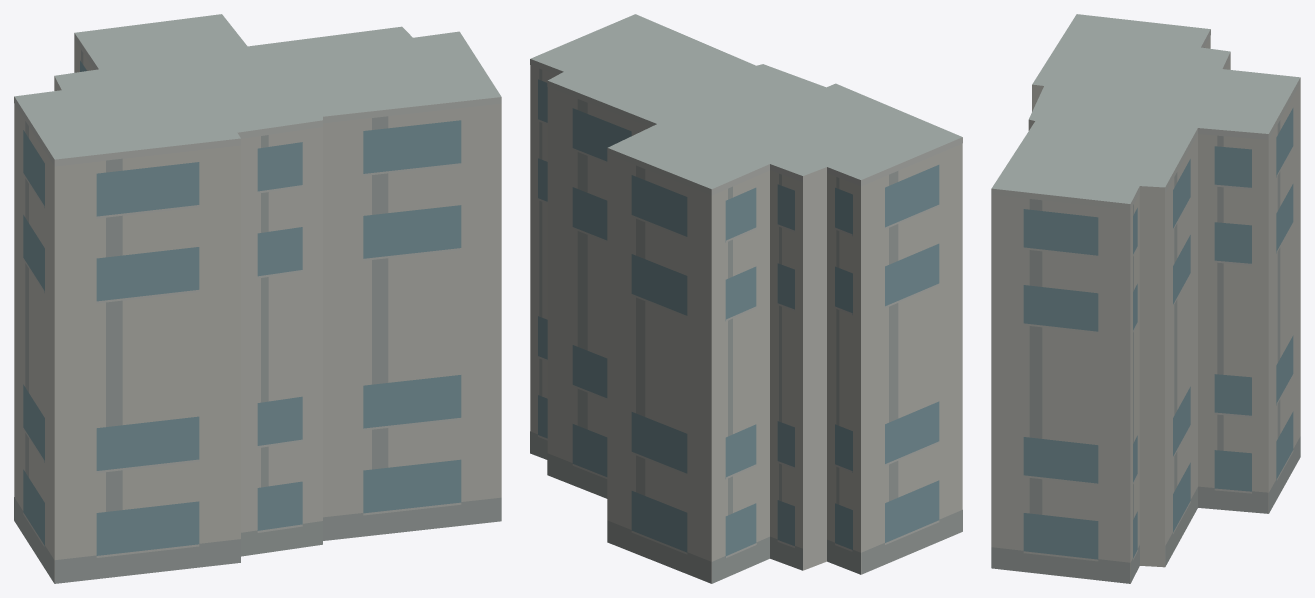
Rendered from survey-upis-32730889.glb.
3 renders of one model, left to right at view 1: azimuth 30°, elevation 25°; view 2: azimuth 150°, elevation 25°; view 3: azimuth 270°, elevation 25°, orthographic. The views are drawn at different scales.
Visible parts, largest first — view 1: survey-upis-32730889.tmp; view 2: survey-upis-32730889.tmp; view 3: survey-upis-32730889.tmp.
Part boxes in pixels (left/top/right/bottom): survey-upis-32730889.tmp: left=14, top=14, right=501, bottom=583; survey-upis-32730889.tmp: left=530, top=14, right=962, bottom=583; survey-upis-32730889.tmp: left=991, top=14, right=1300, bottom=583.
Bounding box in the file's own units: 16.38 × 15.25 × 11.26.
